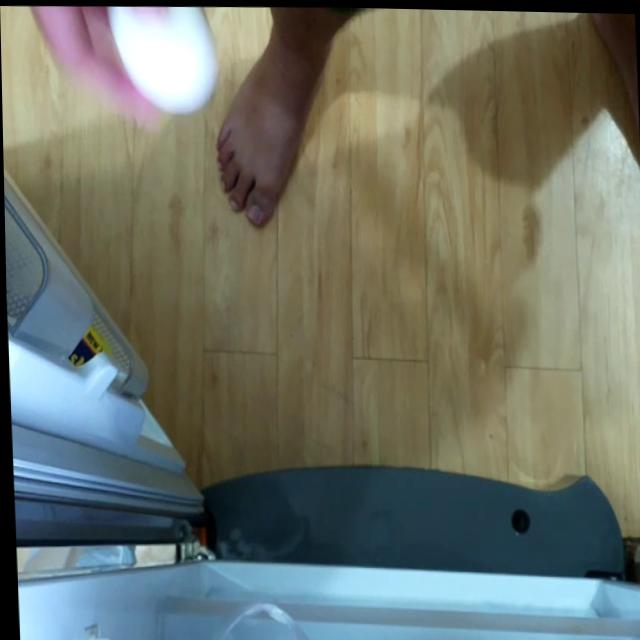egg: (98, 4, 219, 116)
